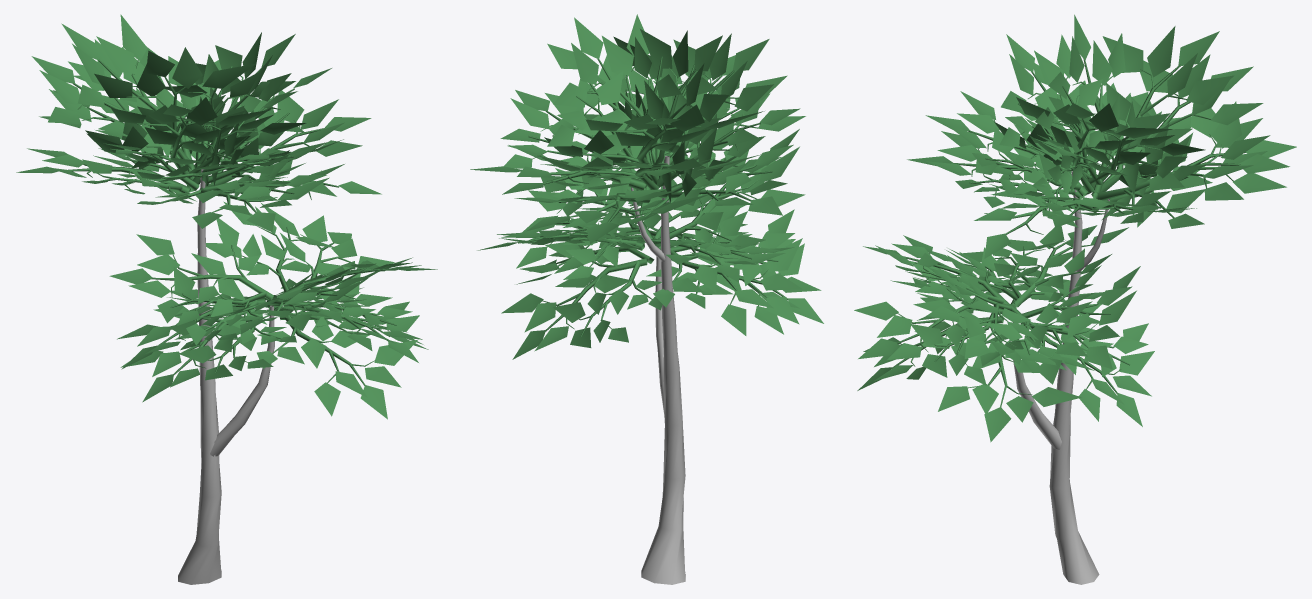
The model's file is tree2.fbx.
3 views of the same model, side by side, from view 1: azimuth 30°, elevation 25°; view 2: azimuth 150°, elevation 25°; view 3: azimuth 270°, elevation 25° (orthographic). The views are drawn at different scales.
Parts seen in each view (by area): view 1: tree3; view 2: tree3; view 3: tree3.
Boxes of the visible parts, bbox=[...] form: tree3: bbox=[16, 14, 437, 584]; tree3: bbox=[470, 14, 823, 584]; tree3: bbox=[854, 14, 1296, 584].
Bounding box in the file's own units: 11.79 × 18.37 × 13.85.
